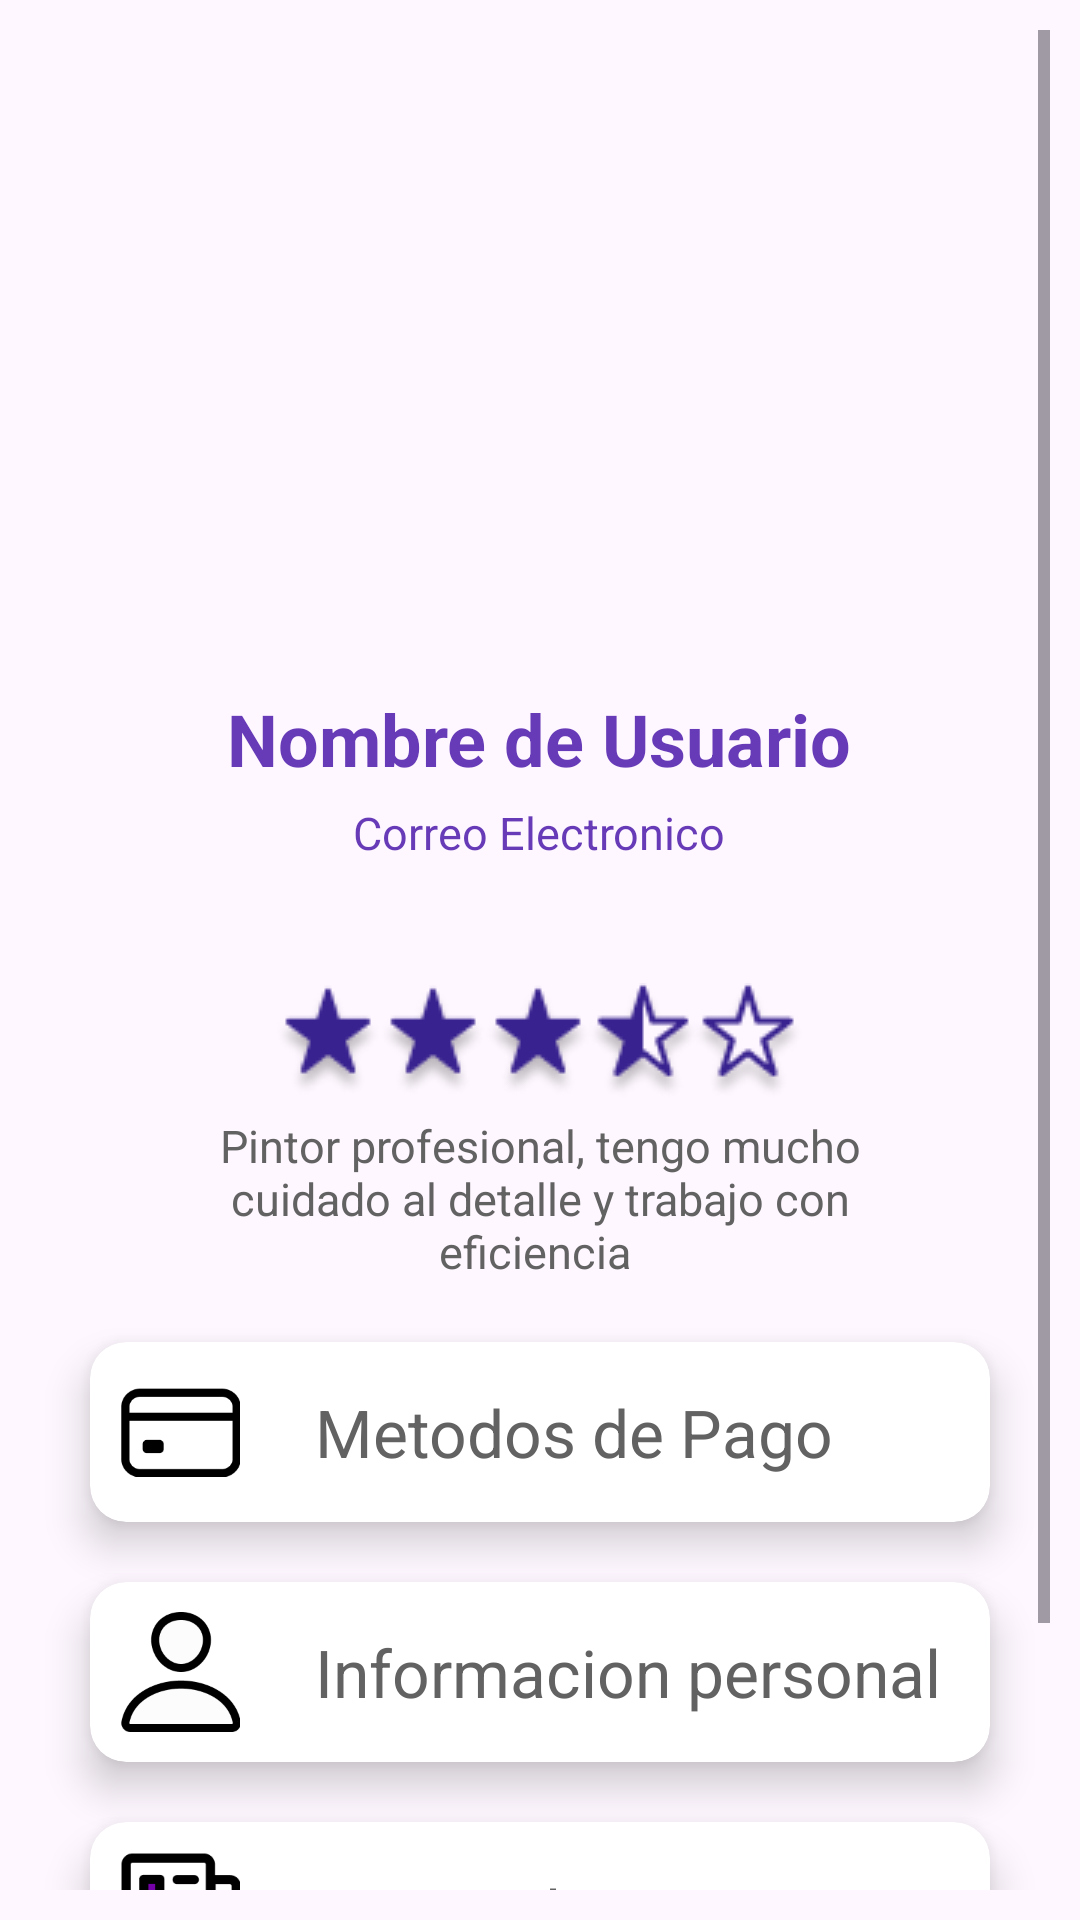

Icons on this 1080 × 1920 Android screen, each with its box as bbox=[x1, y1, x2, y2]:
card: bbox=[121, 1388, 240, 1477]
user: bbox=[121, 1612, 240, 1732]
